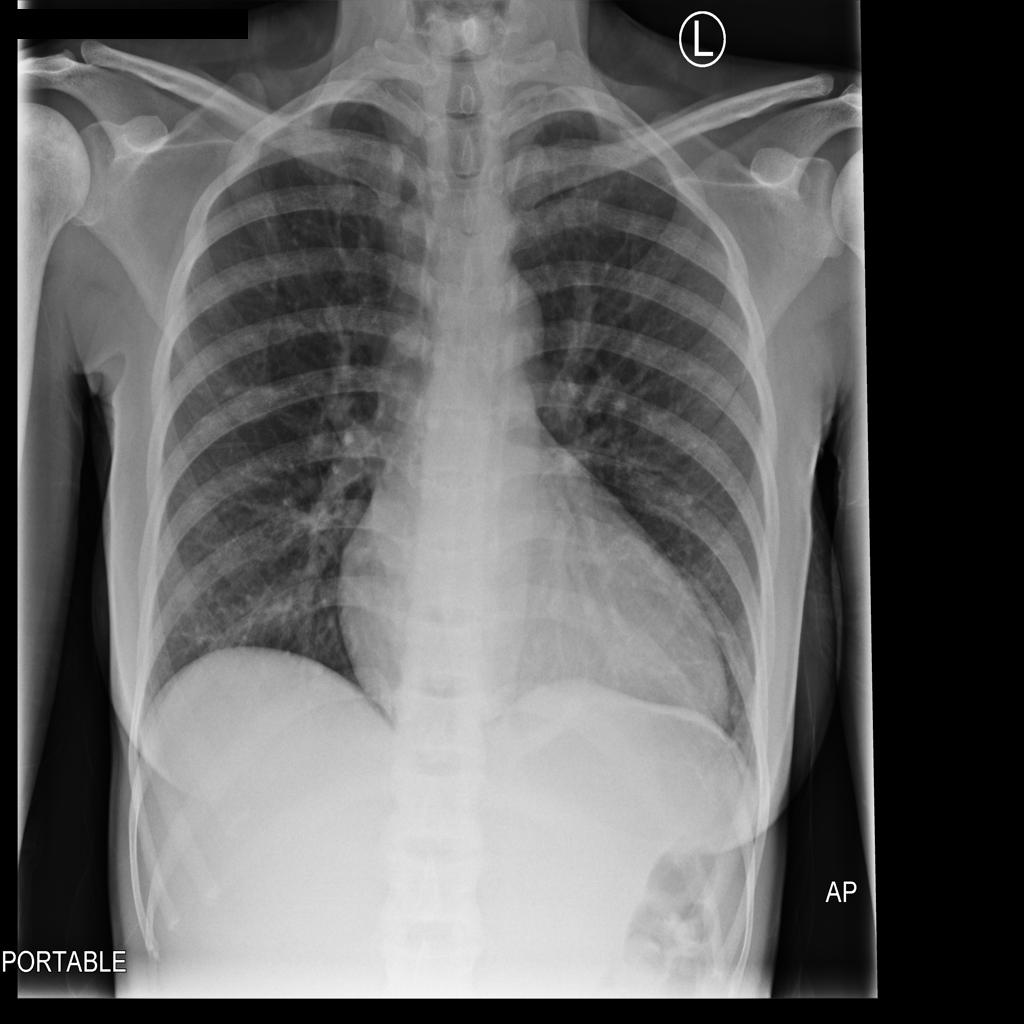Cardiomegaly: (339, 424, 736, 758)
